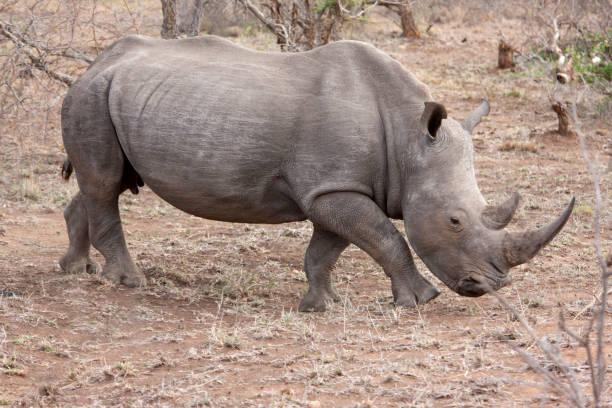rhino: (410, 83, 575, 312)
